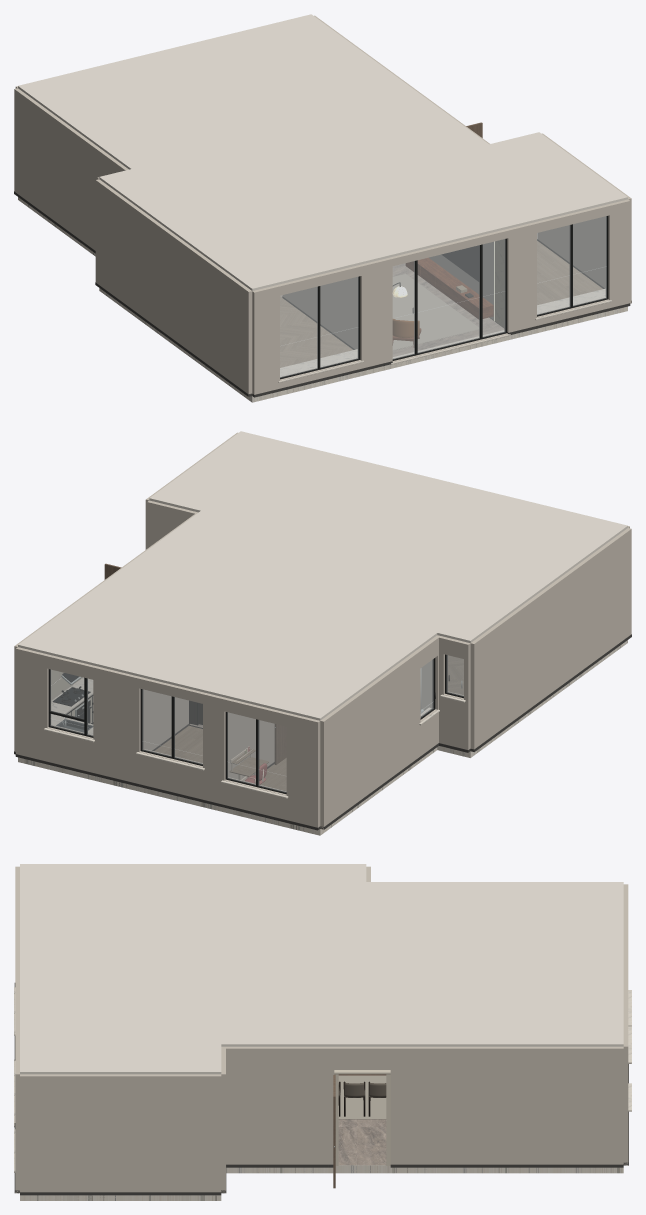
Rendered from apartment-v18.glb.
The picture shows the model from 3 angles, top to bottom: view 1: azimuth 30°, elevation 25°; view 2: azimuth 150°, elevation 25°; view 3: azimuth 270°, elevation 25°; orthographic projection. The views are drawn at different scales.
Parts seen in each view (by area): view 1: Ceiling_main, wall_west_south_0_0_upper, wall_west_south_0_0_lower, wall_west_north_0_0_upper, wall_west_north_0_0_lower, Living_south_glass_upper.001, Furniture_living_rug, Apartment_floor_slab, Living_south_glass_lower.001, floor_master, wall_master_living_4_0_lower, wall_east_south_0_0_lower (+35 smaller); view 2: Ceiling_main, wall_west_south_0_0_upper, wall_west_south_0_0_lower, wall_west_north_0_0_upper, wall_west_north_0_0_lower, wall_north_4_0_upper, Apartment_floor_slab, wall_north_0_0_upper, wall_north_6_0_upper, wall_north_3_0_lower, wall_north_4_0_lower, Kitchen_north_glass_upper.001 (+25 smaller); view 3: Ceiling_main, wall_east_north_0_0_upper, wall_east_south_0_0_upper, wall_east_north_0_0_lower, wall_east_south_0_0_lower, wall_east_elevator_0_0_upper, wall_east_elevator_0_0_lower, Apartment_floor_slab, Continuous_public_stone, Furniture_dining_rug, wall_east_north_1_1_upper, skirting_east_north_0 (+3 smaller).
Boxes of the visible parts, x1,y1,x2,y2 form: Ceiling_main: [18, 14, 627, 290]; wall_west_south_0_0_upper: [95, 179, 252, 353]; wall_west_south_0_0_lower: [95, 242, 252, 393]; wall_west_north_0_0_upper: [14, 88, 111, 209]; wall_west_north_0_0_lower: [14, 151, 95, 250]; Living_south_glass_upper.001: [417, 245, 479, 312]; Furniture_living_rug: [392, 273, 479, 350]; Apartment_floor_slab: [18, 197, 627, 402]; Living_south_glass_lower.001: [417, 297, 479, 353]; floor_master: [280, 296, 352, 367]; wall_master_living_4_0_lower: [282, 285, 357, 349]; wall_east_south_0_0_lower: [537, 224, 631, 303]; Ceiling_main: [18, 431, 627, 720]; wall_west_south_0_0_upper: [470, 528, 631, 707]; wall_west_south_0_0_lower: [470, 593, 631, 749]; wall_west_north_0_0_upper: [320, 650, 420, 785]; wall_west_north_0_0_lower: [320, 715, 420, 829]; wall_north_4_0_upper: [93, 666, 143, 742]; Apartment_floor_slab: [18, 640, 627, 835]; wall_north_0_0_upper: [286, 713, 320, 785]; wall_north_6_0_upper: [16, 647, 51, 719]; wall_north_3_0_lower: [139, 749, 202, 799]; wall_north_4_0_lower: [93, 731, 143, 783]; Kitchen_north_glass_upper.001: [50, 669, 84, 726]; Ceiling_main: [20, 864, 623, 1074]; wall_east_north_0_0_upper: [390, 1046, 623, 1118]; wall_east_south_0_0_upper: [20, 1074, 221, 1146]; wall_east_north_0_0_lower: [390, 1118, 623, 1164]; wall_east_south_0_0_lower: [20, 1146, 221, 1192]; wall_east_elevator_0_0_upper: [221, 1046, 328, 1118]; wall_east_elevator_0_0_lower: [226, 1118, 328, 1164]; Apartment_floor_slab: [20, 1165, 623, 1200]; Continuous_public_stone: [338, 1119, 386, 1165]; Furniture_dining_rug: [338, 1075, 386, 1119]; wall_east_north_1_1_upper: [334, 1046, 390, 1069]; skirting_east_north_0: [390, 1164, 623, 1167].
Bounding box in the file's own units: 10.72 × 3.04 × 13.2.
Materials: 56 (16 with a texture image).
